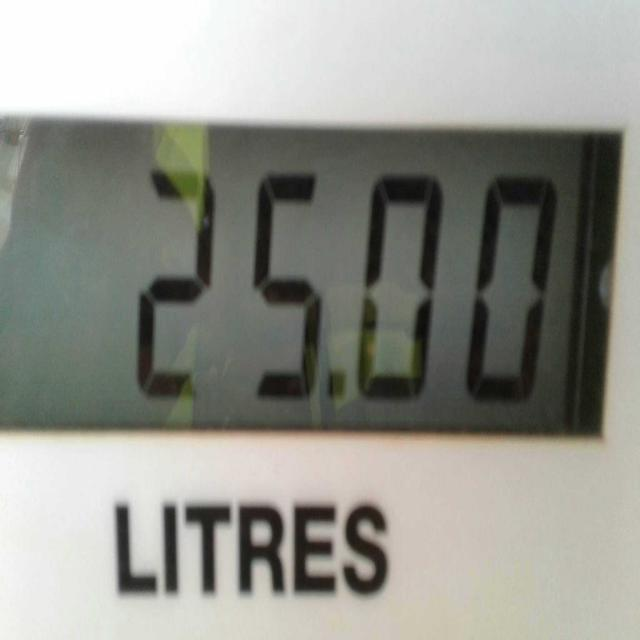.: (321, 362, 352, 412)
0: (463, 168, 561, 416), (356, 165, 449, 416)
2: (130, 165, 230, 418)
5: (240, 163, 330, 416)
screen: (0, 106, 628, 448)
